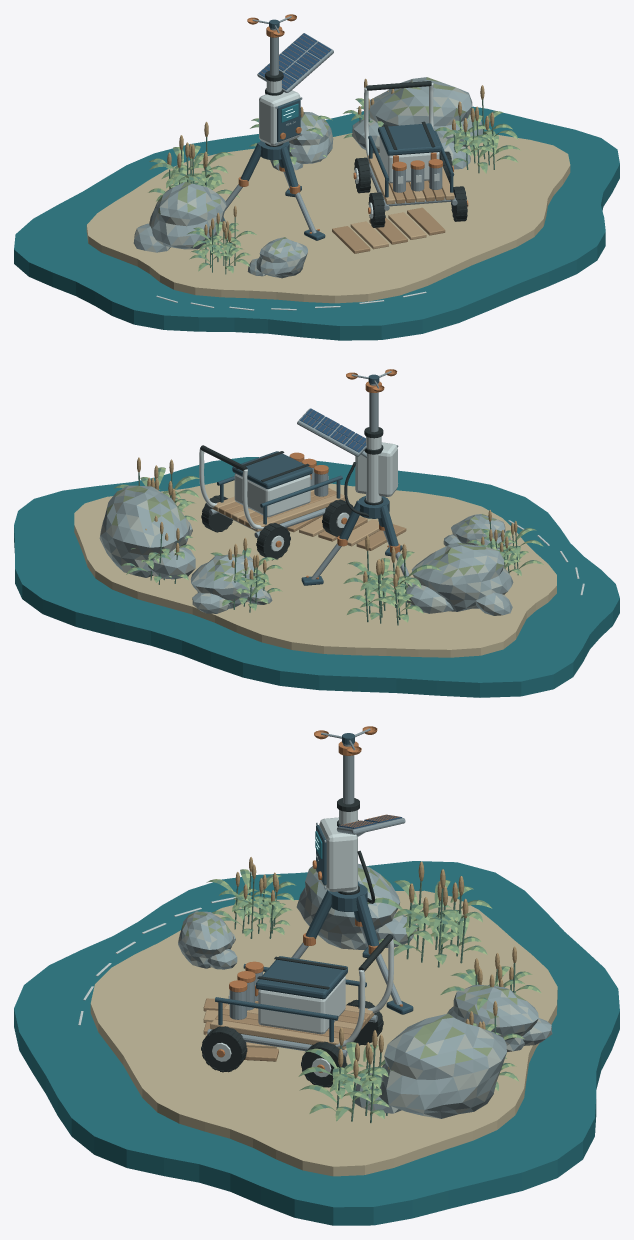
Rendered from tidal_field_scene.glb.
The picture shows the model from 3 angles, top to bottom: view 1: azimuth 30°, elevation 25°; view 2: azimuth 150°, elevation 25°; view 3: azimuth 270°, elevation 25°; orthographic projection. The views are drawn at different scales.
Visible parts, largest first — view 1: Raised shoreline, Water edge plinth, Stratified shore stone.003, Stratified shore stone, Stratified shore stone.009, Stratified shore stone.006, Case lid, Weather-sealed control enclosure, Waterproof specimen case, Front instrument face, Stratified shore stone.002, Panel frame (+6 smaller); view 2: Water edge plinth, Raised shoreline, Stratified shore stone.003, Stratified shore stone, Stratified shore stone.006, Waterproof specimen case, Case lid, Weather-sealed control enclosure, Stratified shore stone.009, Stratified shore stone.004, Stratified shore stone.001, Lower telescopic mast (+8 smaller); view 3: Water edge plinth, Raised shoreline, Stratified shore stone.003, Stratified shore stone, Stratified shore stone.006, Waterproof specimen case, Case lid, Stratified shore stone.009, Weather-sealed control enclosure, Replaceable timber deck.006, Rubber wheel.002, Rubber wheel.003 (+1 smaller).
Boxes of the visible parts, x1,y1,x2,y2 form: Raised shoreline: (86,133,570,303); Water edge plinth: (14,106,619,340); Stratified shore stone.003: (369,77,482,146); Stratified shore stone: (149,182,226,249); Stratified shore stone.009: (256,237,307,278); Stratified shore stone.006: (289,112,333,163); Case lid: (378,123,441,155); Weather-sealed control enclosure: (259,90,300,145); Waterproof specimen case: (379,136,439,183); Front instrument face: (277,98,300,142); Stratified shore stone.002: (133,223,170,252); Panel frame: (257,33,333,92); Water edge plinth: (14,457,619,697); Raised shoreline: (74,480,556,657); Stratified shore stone.003: (99,485,190,577); Stratified shore stone: (411,542,513,611); Stratified shore stone.006: (190,554,258,608); Waterproof specimen case: (234,473,310,517); Case lid: (232,451,312,489); Weather-sealed control enclosure: (355,442,397,496); Stratified shore stone.009: (451,514,511,548); Stratified shore stone.004: (148,546,195,579); Stratified shore stone.001: (406,584,453,613); Lower telescopic mast: (366,436,381,502); Water edge plinth: (14,861,619,1225); Raised shoreline: (90,890,557,1176); Stratified shore stone.003: (376,1013,506,1118); Stratified shore stone: (296,863,399,950); Stratified shore stone.006: (447,984,538,1051); Waterproof specimen case: (258,976,345,1034); Case lid: (256,956,347,999); Stratified shore stone.009: (178,911,233,968); Weather-sealed control enclosure: (319,817,357,891); Replaceable timber deck.006: (210,1019,346,1049); Rubber wheel.002: (202,1027,246,1071); Rubber wheel.003: (301,1042,346,1087).
Bounding box in the file's own units: 8.02 × 3.03 × 5.93.
